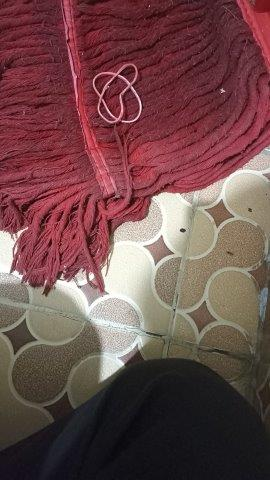karet: (92, 63, 144, 124)
